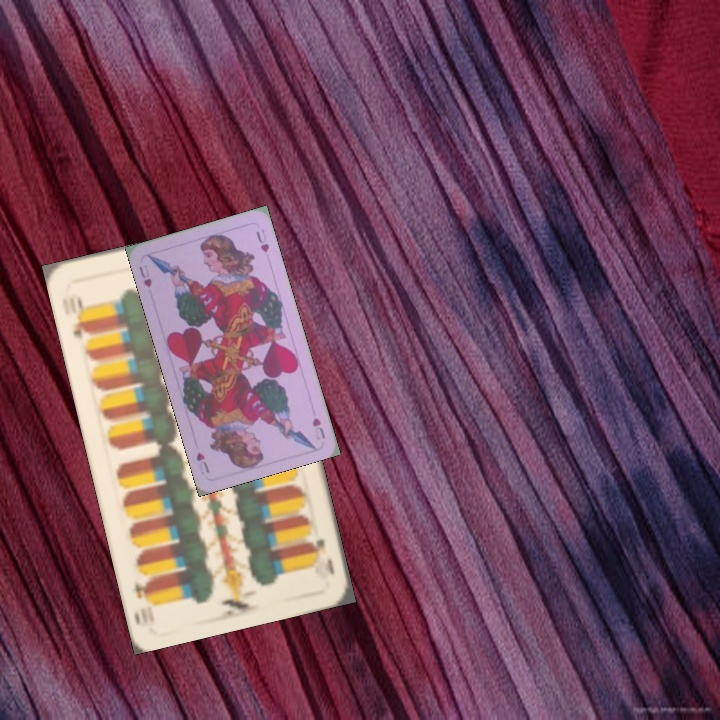E10: (305, 535, 337, 578), (69, 291, 93, 342)
HU: (308, 414, 328, 443), (135, 260, 154, 290)
